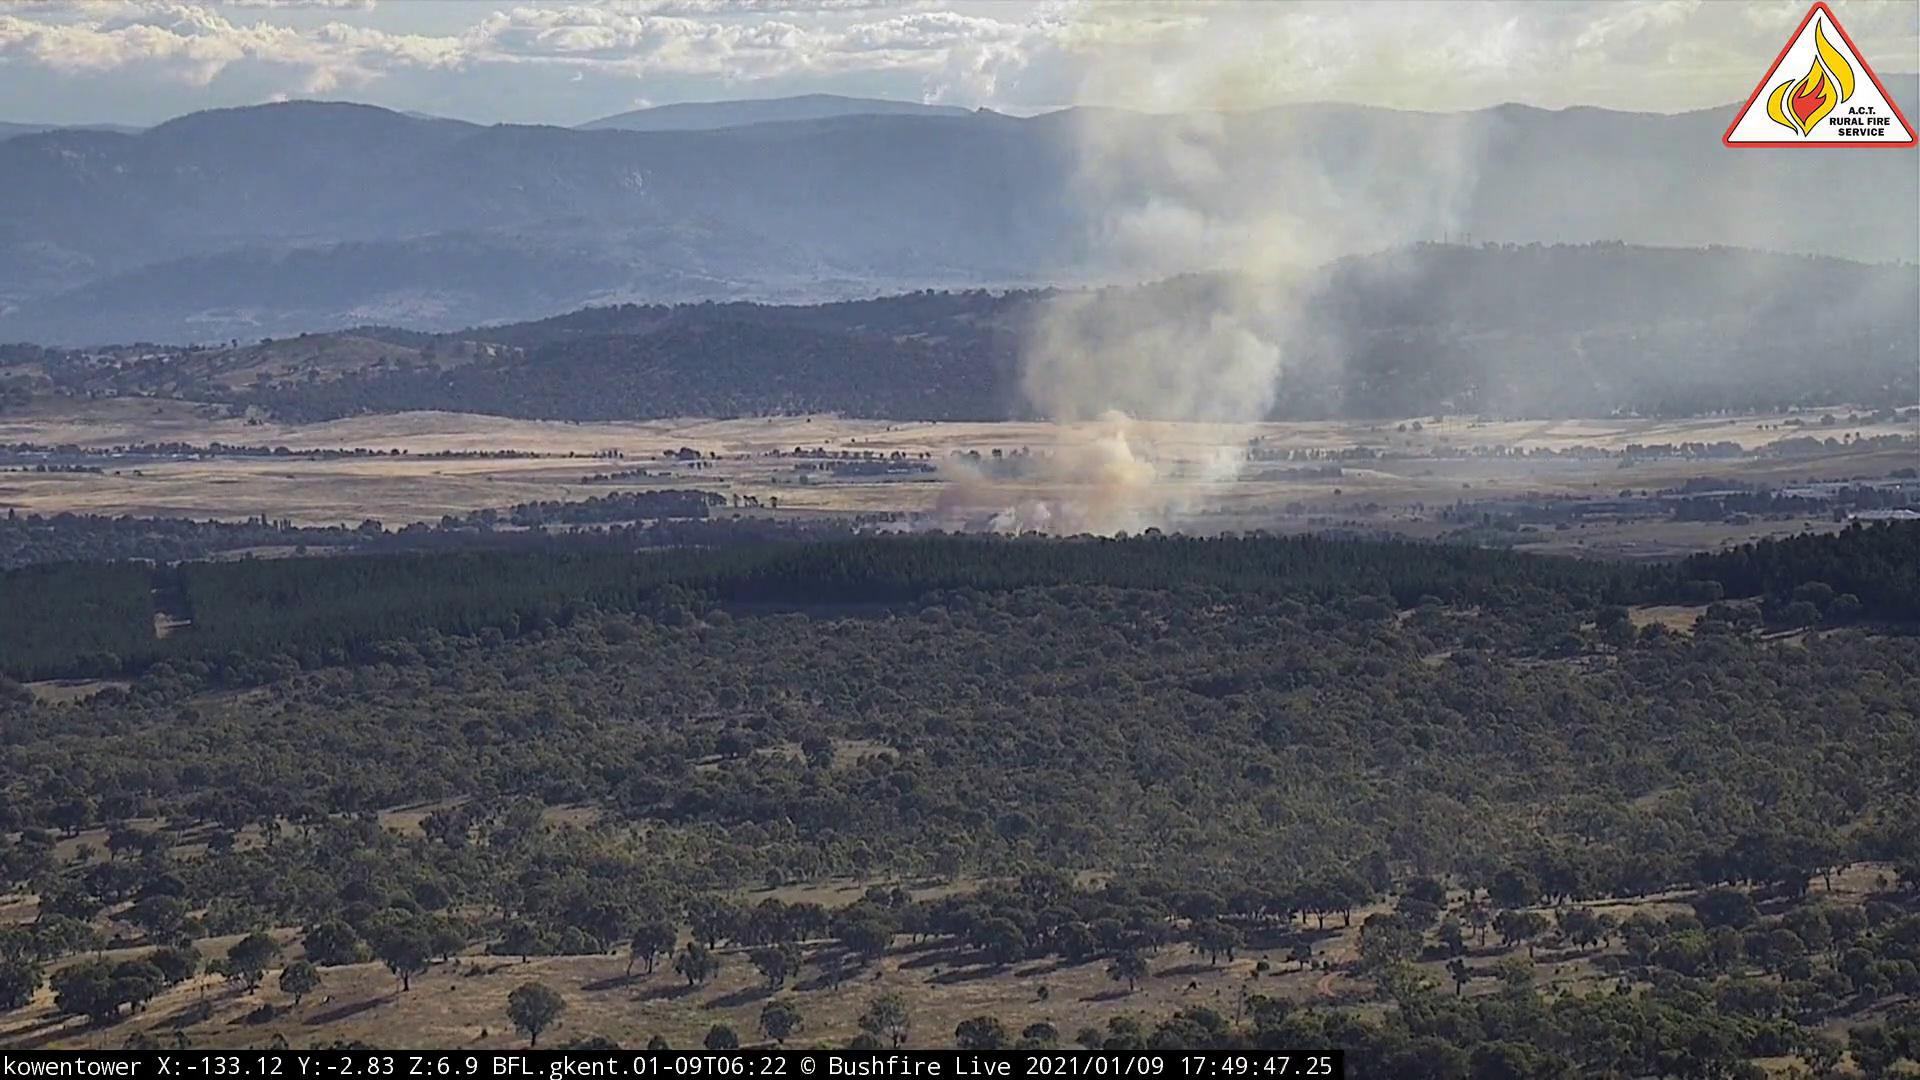Smoke: (903, 3, 1640, 545)
